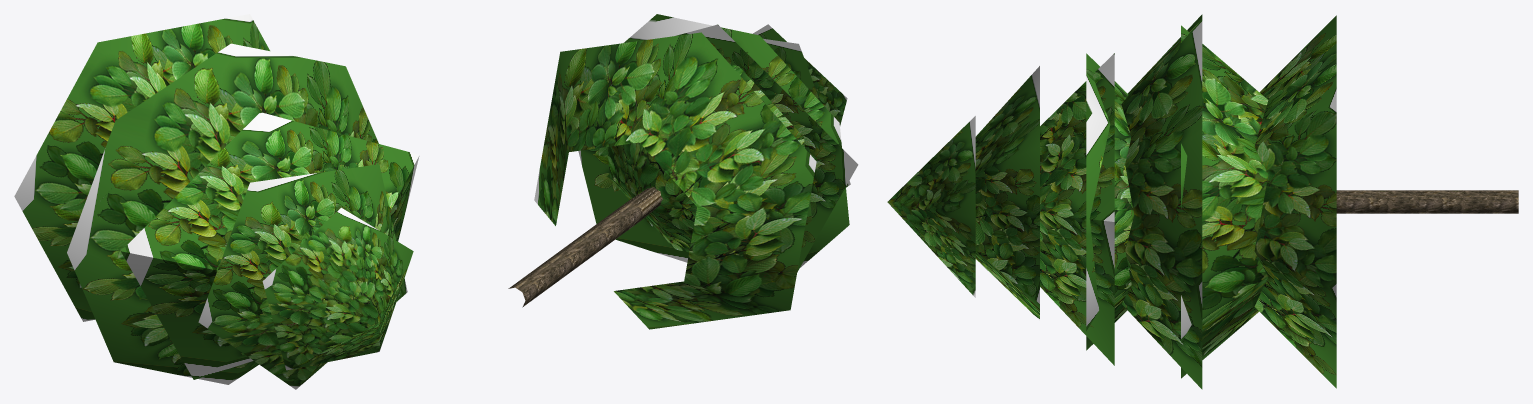
Rendered from xss_x03.gltf.
The picture shows the model from 3 angles, left to right: view 1: azimuth 30°, elevation 25°; view 2: azimuth 150°, elevation 25°; view 3: azimuth 270°, elevation 25°; orthographic projection. The views are drawn at different scales.
Parts seen in each view (by area): view 1: huitugou_2195_106; view 2: huitugou_2195_106; view 3: huitugou_2195_106.
Part boxes in pixels (x1,y1,x2,y2): huitugou_2195_106: (14, 14, 419, 389); huitugou_2195_106: (508, 14, 858, 329); huitugou_2195_106: (887, 14, 1518, 389).
Size of the model in its own units: 15.93 by 15.93 by 25.21.
2 materials, 2 textured.
